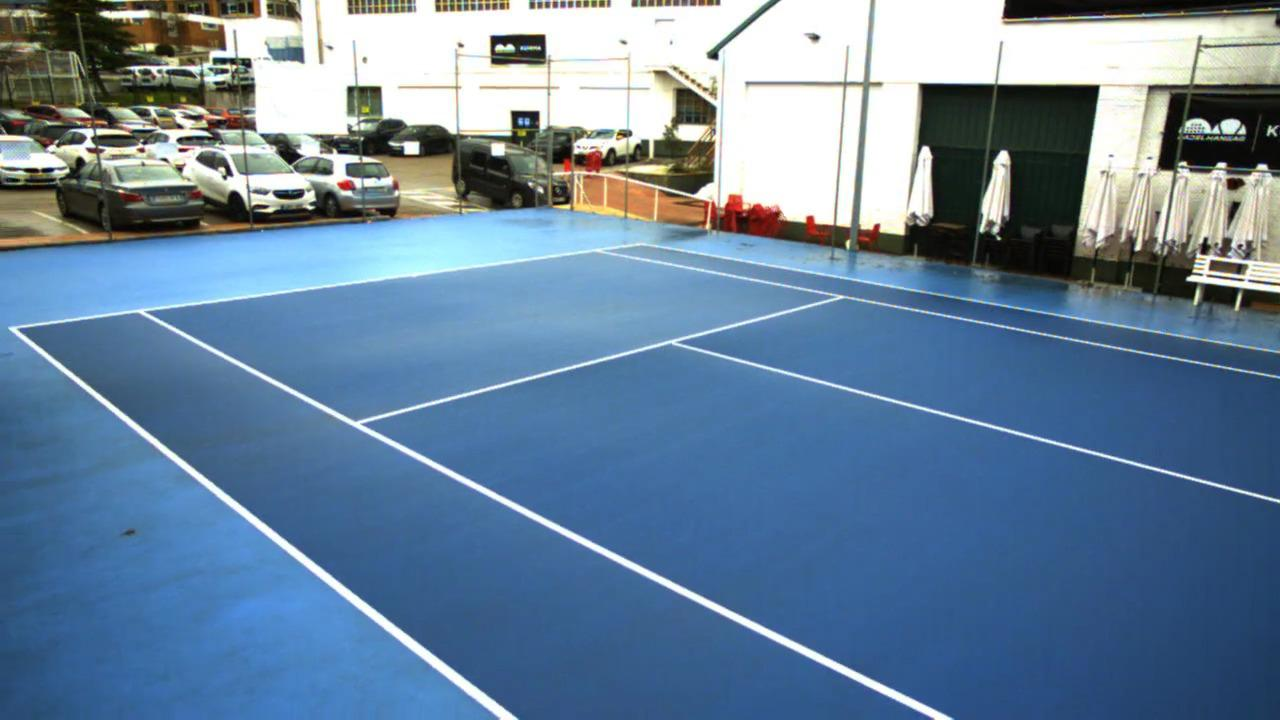cancha_tenis: (142, 247, 1280, 720)
point_f1: (130, 303, 157, 321)
point_f2: (584, 243, 608, 261)
point_fc1: (403, 270, 423, 282)
point_i1: (339, 411, 374, 434)
point_i2: (824, 288, 853, 308)
point_ic1: (662, 331, 690, 353)
